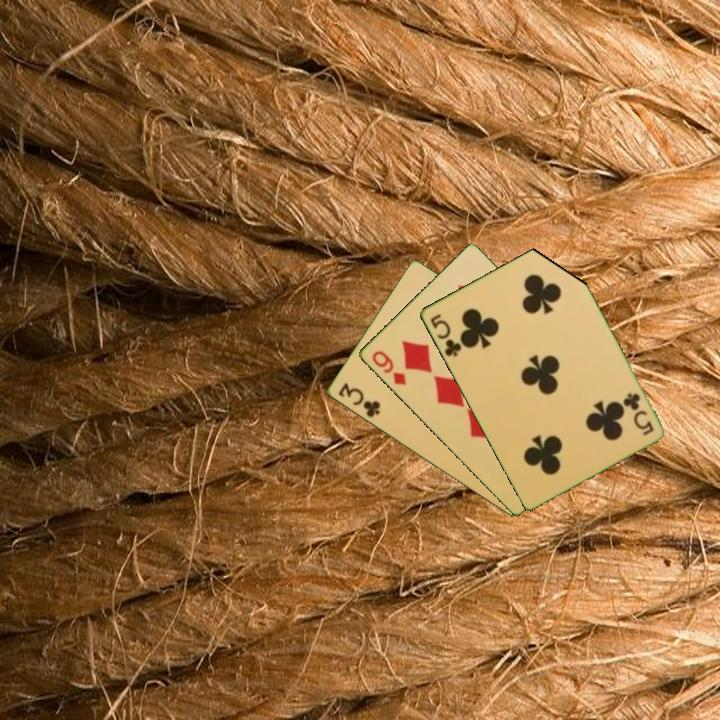3c: (334, 379, 383, 420)
5c: (426, 310, 464, 359), (619, 389, 656, 438)
9d: (368, 347, 409, 388)
